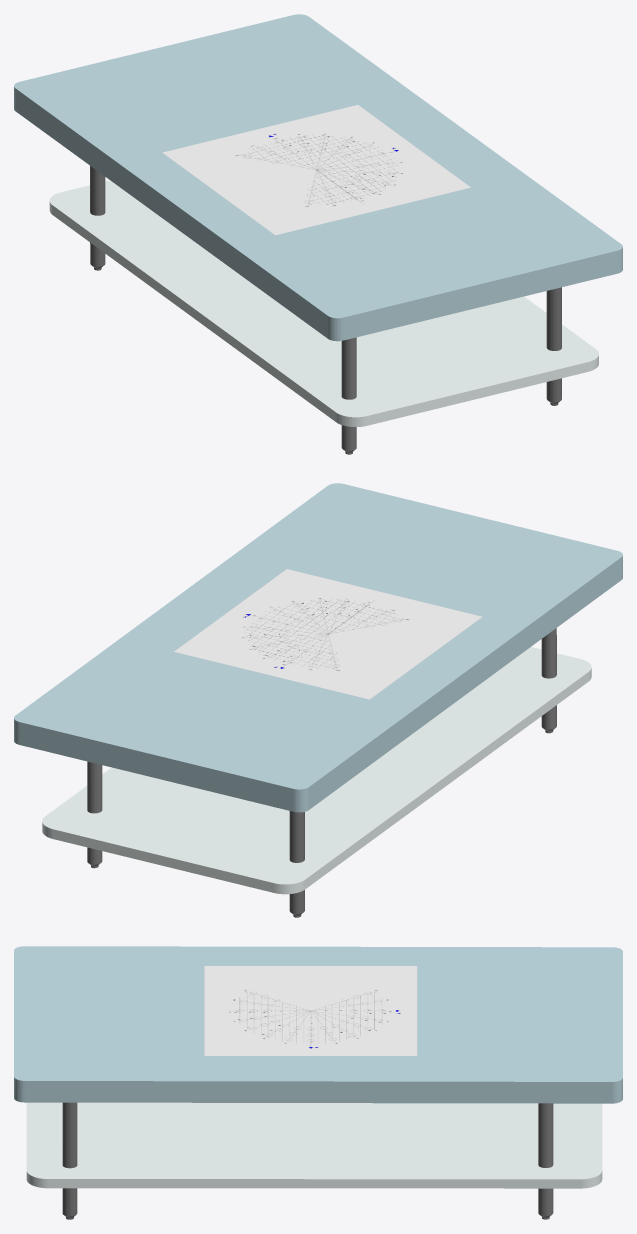
Rendered from table.dae.
3 views of the same model, one above another, from view 1: azimuth 30°, elevation 25°; view 2: azimuth 150°, elevation 25°; view 3: azimuth 270°, elevation 25° (orthographic). The views are drawn at different scales.
Visible parts, largest first — view 1: Cube, Cube.001, Plane, Cylinder.003, Cylinder, Cylinder.002; view 2: Cube, Cube.001, Plane, Cylinder.002, Cylinder.001, Cylinder.003; view 3: Cube, Cube.001, Plane, Cylinder, Cylinder.001.
Boxes of the visible parts, left/top/right/bottom form: Cube: left=14, top=14, right=622, bottom=341; Cube.001: left=49, top=180, right=598, bottom=426; Plane: left=162, top=105, right=470, bottom=235; Cylinder.003: left=341, top=337, right=356, bottom=454; Cylinder: left=546, top=287, right=561, bottom=405; Cylinder.002: left=90, top=166, right=105, bottom=270; Cube: left=14, top=483, right=622, bottom=812; Cube.001: left=42, top=647, right=591, bottom=894; Plane: left=174, top=569, right=482, bottom=699; Cylinder.002: left=289, top=811, right=304, bottom=917; Cylinder.001: left=87, top=761, right=102, bottom=868; Cylinder.003: left=541, top=628, right=556, bottom=733; Cube: left=14, top=946, right=622, bottom=1103; Cube.001: left=26, top=1102, right=602, bottom=1188; Plane: left=204, top=966, right=417, bottom=1055; Cylinder: left=62, top=1102, right=77, bottom=1219; Cylinder.001: left=538, top=1103, right=553, bottom=1219.
Size of the model in its own units: 2.99 by 5.72 by 1.63.
Materials: 7 (1 with a texture image).
